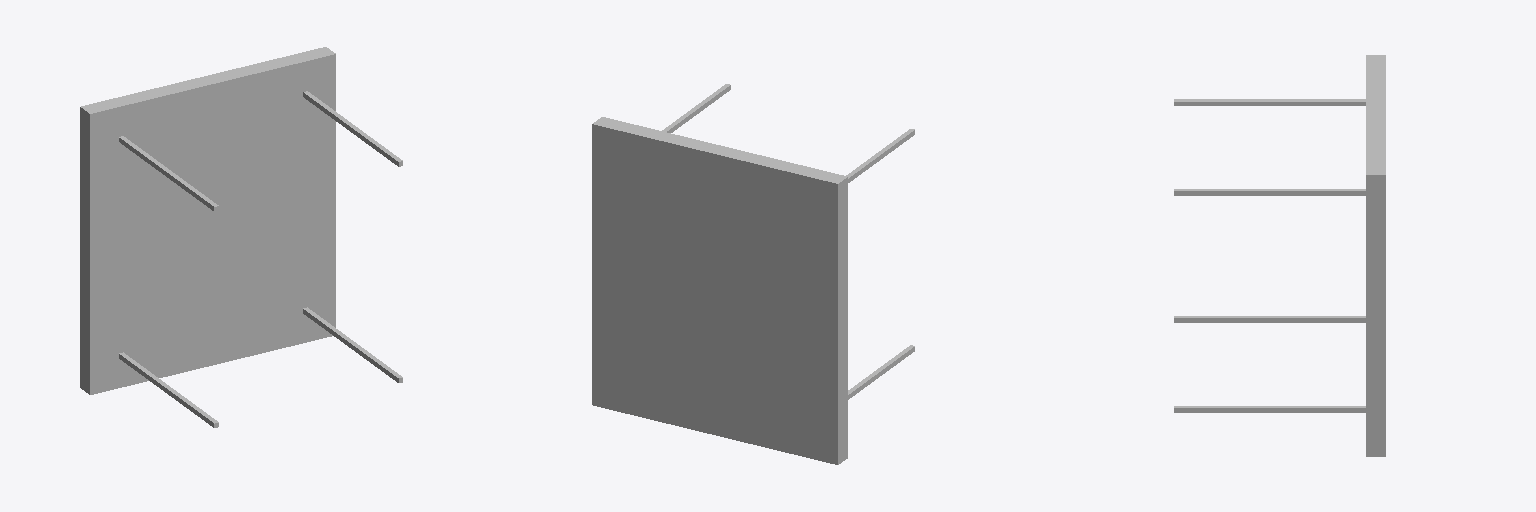
File: random_table62.obj
3 views of the same model, side by side, from view 1: azimuth 30°, elevation 25°; view 2: azimuth 150°, elevation 25°; view 3: azimuth 270°, elevation 25° (orthographic).
Visible parts, largest first — view 1: Table_Cube.1375, TableLeg2_Cube.1378, TableLeg3_Cube.1379, TableLeg0_Cube.1376, TableLeg1_Cube.1377; view 2: Table_Cube.1375, TableLeg1_Cube.1377, TableLeg3_Cube.1379, TableLeg0_Cube.1376; view 3: Table_Cube.1375, TableLeg0_Cube.1376, TableLeg1_Cube.1377, TableLeg2_Cube.1378, TableLeg3_Cube.1379.
Part boxes in pixels (left/top/right/bottom): Table_Cube.1375: left=80, top=47, right=335, bottom=394; TableLeg2_Cube.1378: left=303, top=307, right=402, bottom=382; TableLeg3_Cube.1379: left=119, top=352, right=218, bottom=427; TableLeg0_Cube.1376: left=303, top=91, right=402, bottom=166; TableLeg1_Cube.1377: left=119, top=136, right=218, bottom=211; Table_Cube.1375: left=592, top=117, right=847, bottom=464; TableLeg1_Cube.1377: left=846, top=129, right=914, bottom=182; TableLeg3_Cube.1379: left=848, top=345, right=914, bottom=399; TableLeg0_Cube.1376: left=662, top=84, right=730, bottom=132; Table_Cube.1375: left=1366, top=55, right=1385, bottom=456; TableLeg0_Cube.1376: left=1174, top=189, right=1365, bottom=195; TableLeg1_Cube.1377: left=1174, top=99, right=1365, bottom=105; TableLeg2_Cube.1378: left=1174, top=406, right=1365, bottom=412; TableLeg3_Cube.1379: left=1174, top=316, right=1365, bottom=322.
Bounding box in the file's own units: 6.5 × 7.09 × 4.84.